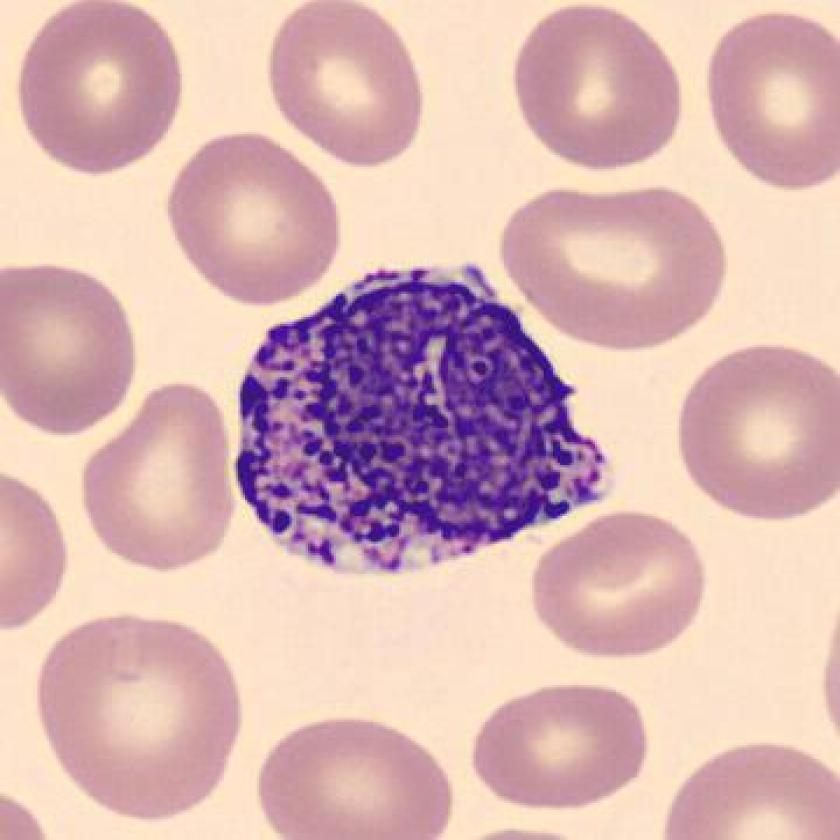basophil: (232, 251, 608, 579)
